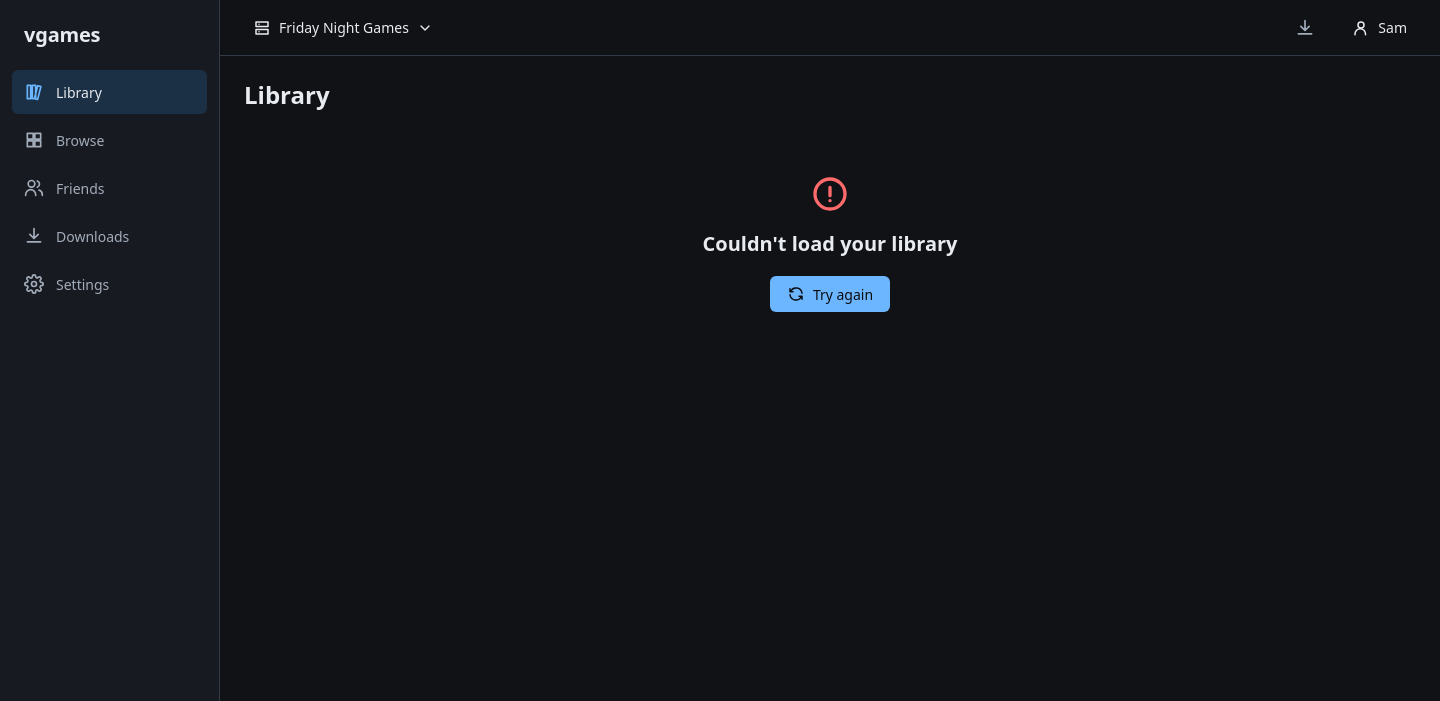
Test: library › shows an error with a retry when the library cannot be read
Expected: the heading "Couldn't load your library" is shown, [703, 231, 957, 256]
Click the button "Try again" at [830, 294], box [770, 276, 890, 312]
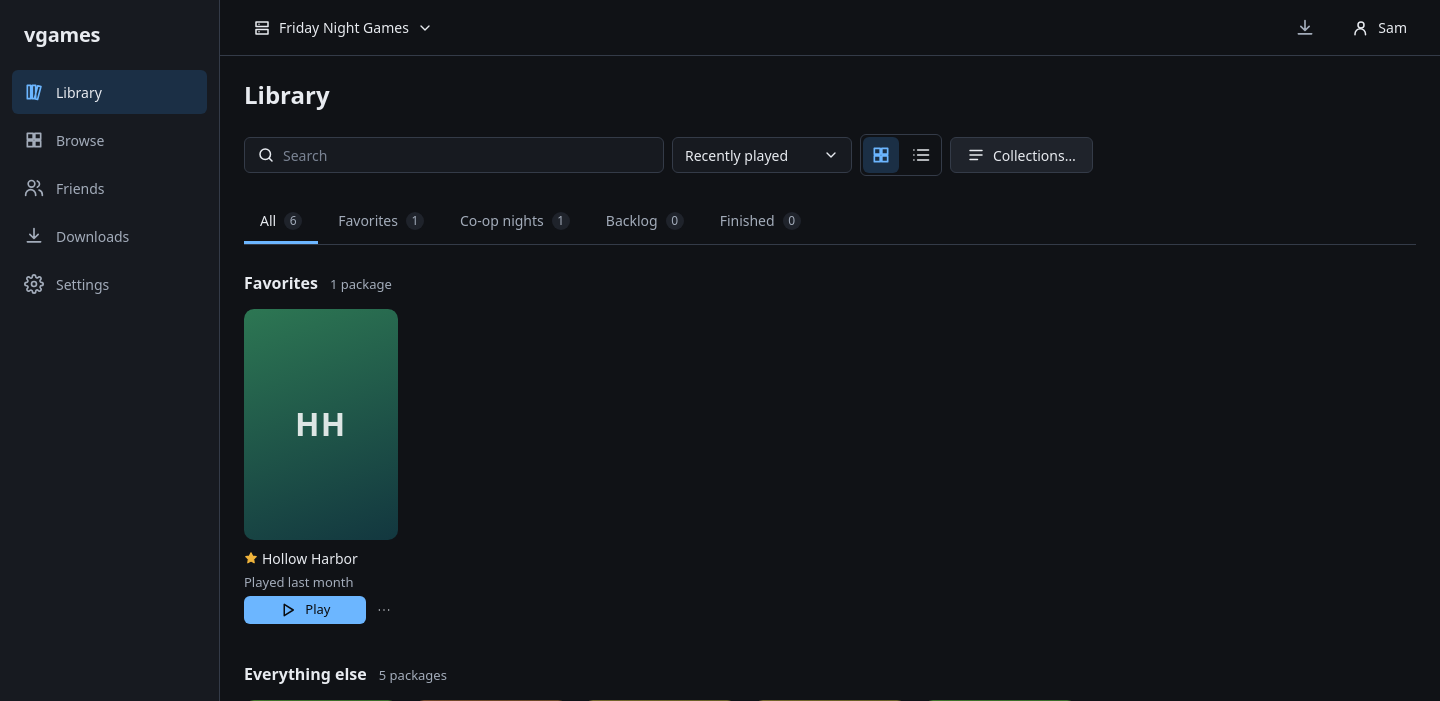
Result: the element "Hollow Harbor" is shown at [244, 309, 398, 624]
